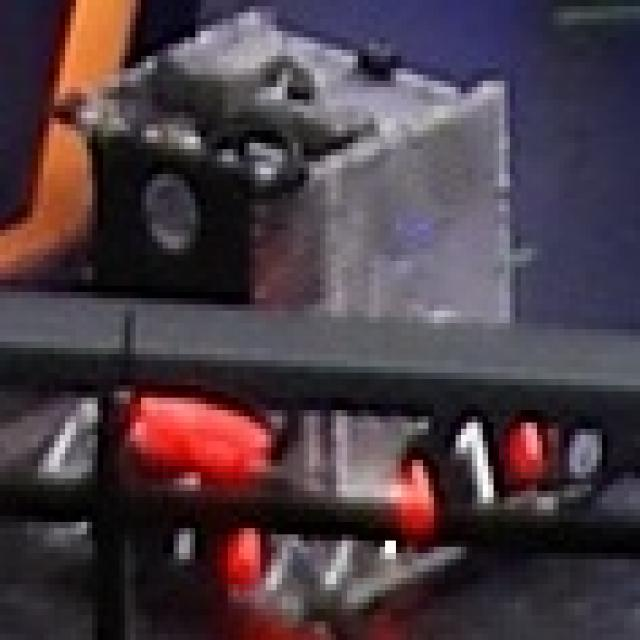R1: (84, 456, 269, 600), (380, 388, 542, 532)
